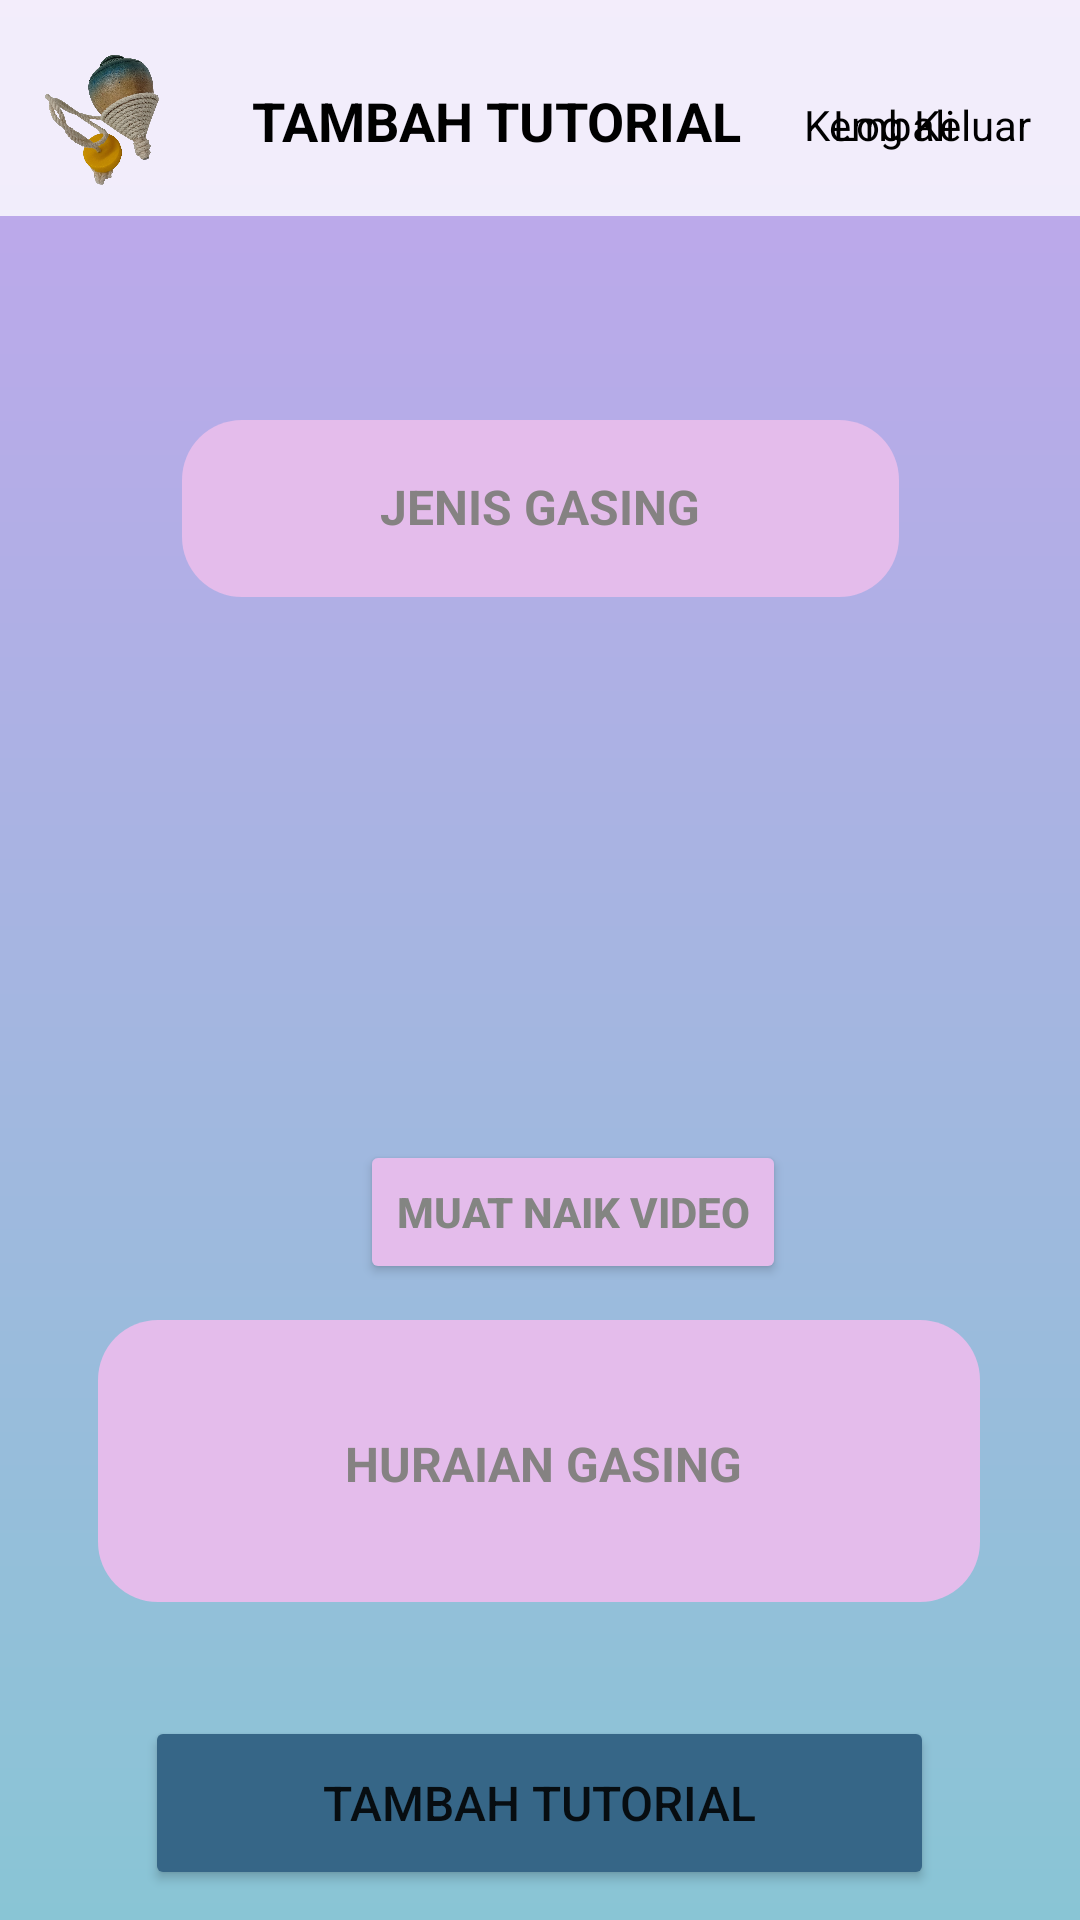

Where to tap for icons on this 1080px x 1920px app screen, as (x=x, y=y):
gasing: (x=102, y=120)
